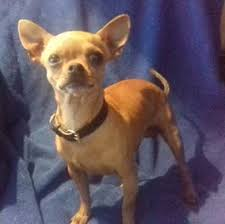chihuahua: (8, 12, 192, 195)
